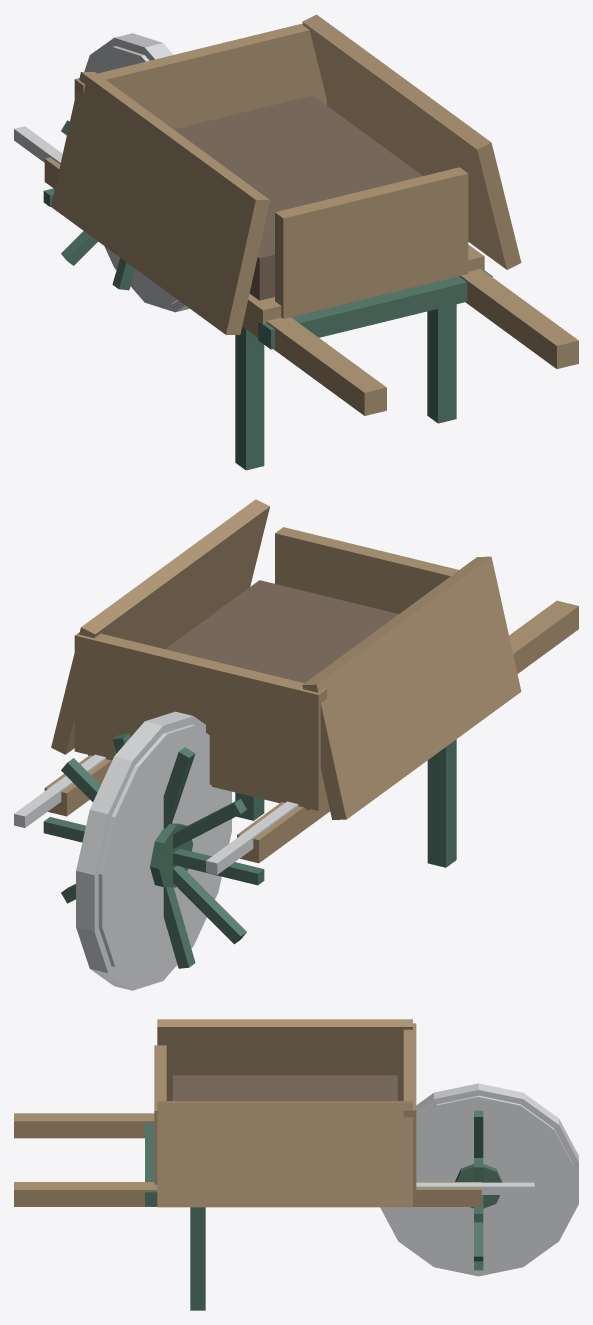
Rendered from botanical-glasshouse-and-palm-house-botanical-glasshou-011ca67e__38571.glb.
The picture shows the model from 3 angles, top to bottom: view 1: azimuth 30°, elevation 25°; view 2: azimuth 150°, elevation 25°; view 3: azimuth 270°, elevation 25°; orthographic projection. The views are drawn at different scales.
Parts seen in each view (by area): view 1: botanical-glasshouse-and-palm-house-wheelbarrow, wheel-barrow/steel, wheel-barrow/iron; view 2: botanical-glasshouse-and-palm-house-wheelbarrow, wheel-barrow/steel, wheel-barrow/iron; view 3: botanical-glasshouse-and-palm-house-wheelbarrow, wheel-barrow/steel, wheel-barrow/iron.
Boxes of the visible parts, left/top/right/bottom form: botanical-glasshouse-and-palm-house-wheelbarrow: left=14, top=14, right=578, bottom=470; wheel-barrow/steel: left=84, top=33, right=189, bottom=312; wheel-barrow/iron: left=43, top=120, right=135, bottom=290; botanical-glasshouse-and-palm-house-wheelbarrow: left=14, top=499, right=578, bottom=874; wheel-barrow/steel: left=76, top=711, right=231, bottom=990; wheel-barrow/iron: left=43, top=733, right=264, bottom=968; botanical-glasshouse-and-palm-house-wheelbarrow: left=14, top=1019, right=534, bottom=1310; wheel-barrow/steel: left=380, top=1083, right=578, bottom=1276; wheel-barrow/iron: left=455, top=1110, right=502, bottom=1270.
Size of the model in its own units: 0.7997 by 0.7499 by 1.81.
